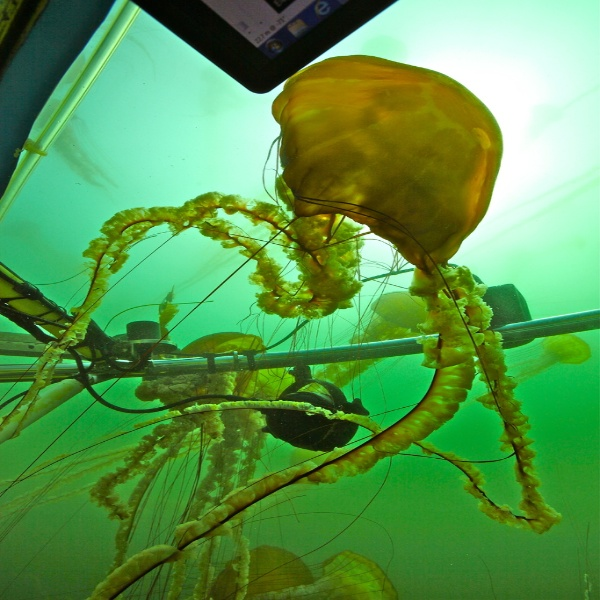Jellyfish: (0, 49, 502, 598)
